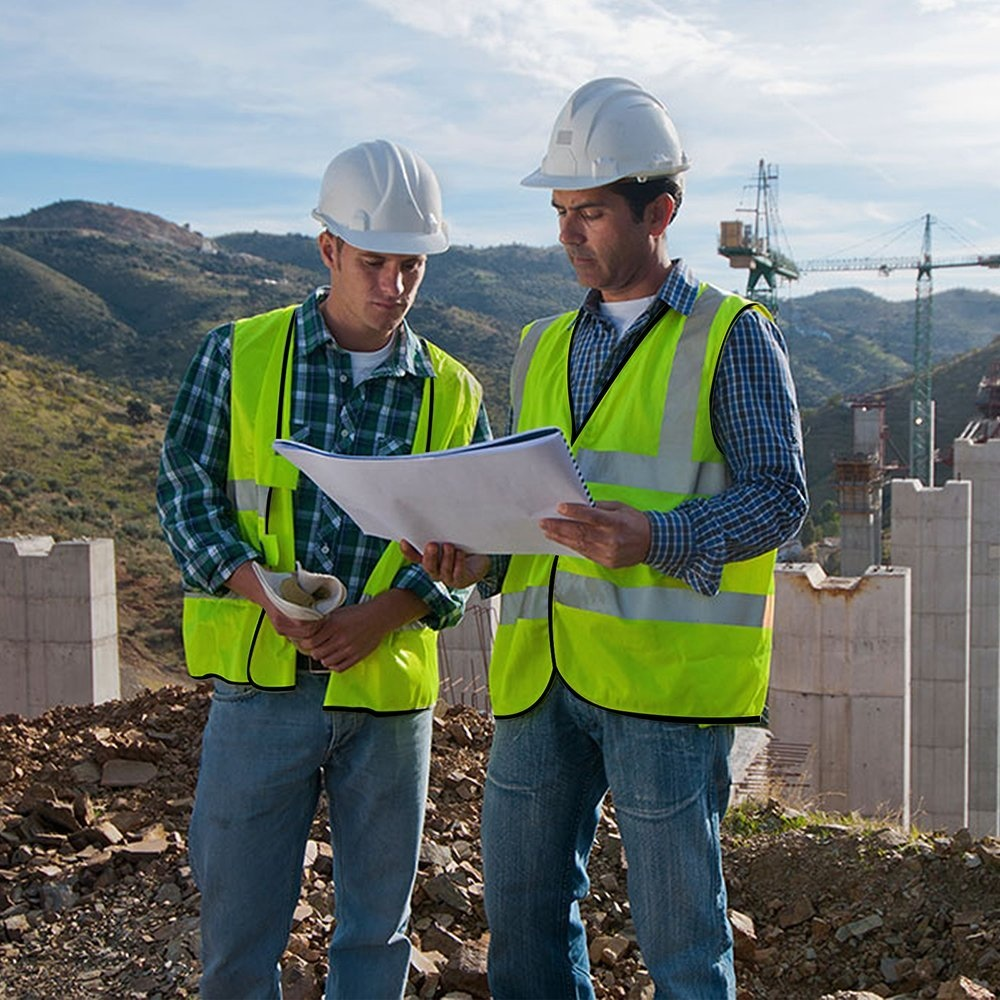helmet: (517, 76, 698, 198), (315, 141, 450, 263)
person with full safety: (486, 81, 770, 998), (171, 149, 434, 993)
safety vest: (508, 287, 779, 728), (195, 303, 453, 713)
